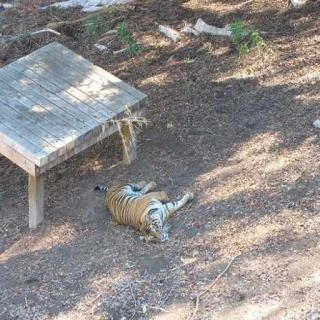Tiger: (81, 159, 206, 260)
